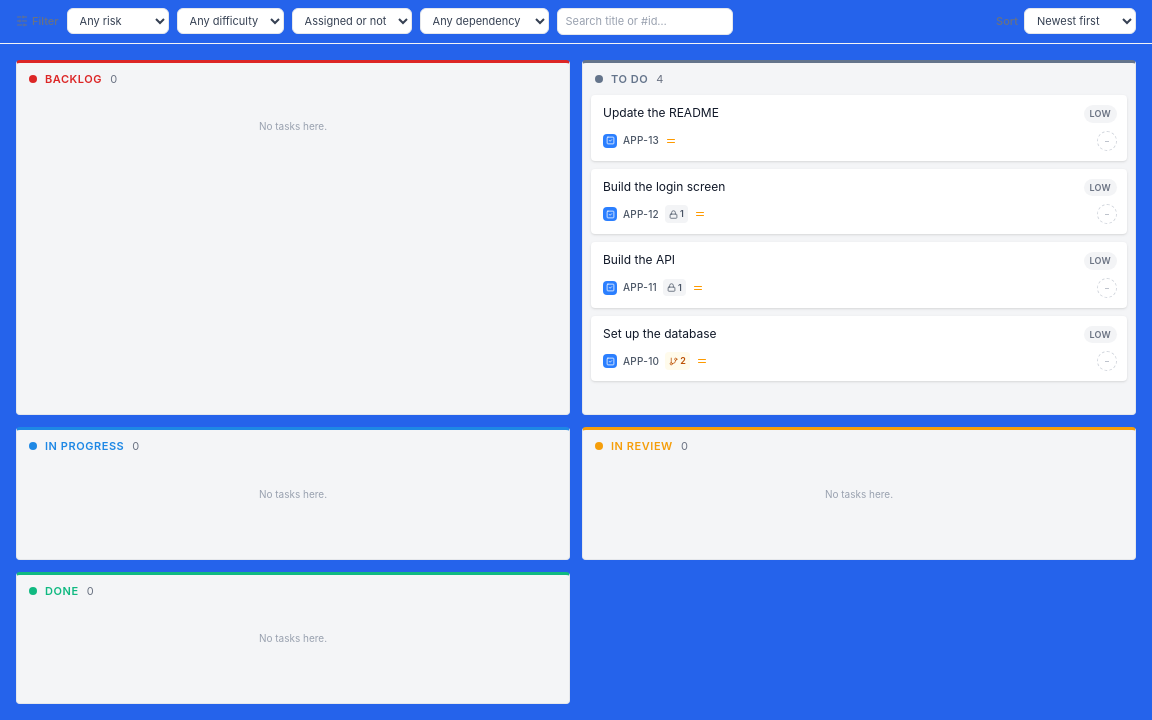
Test: KanbanBoard dependency ordering › finds a task by title without leaving the board
This screenshot has width=1152, height=720.
Expected: the text "Set up the database" is shown, [603, 326, 717, 340]
Type "login" into the search field named "Search tasks" at (644, 21), box [556, 8, 732, 34]
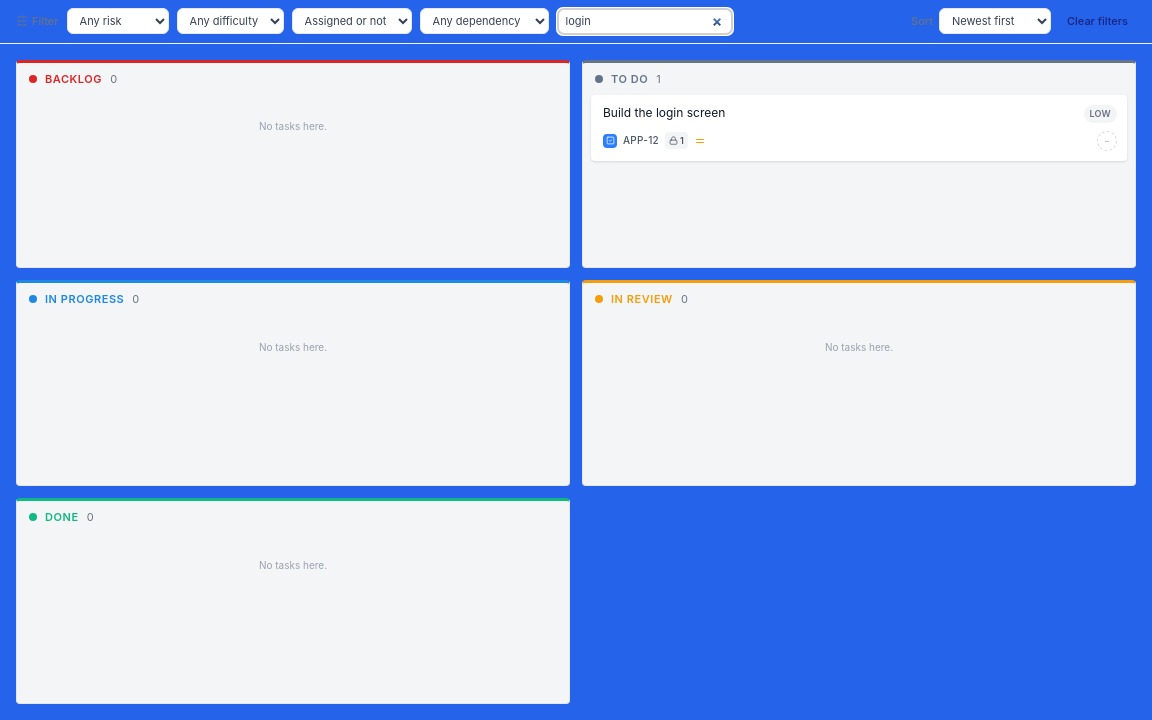
Expected: the text "Build the login screen" is shown, [603, 105, 725, 120]
Now the button "Update the README" is gone
